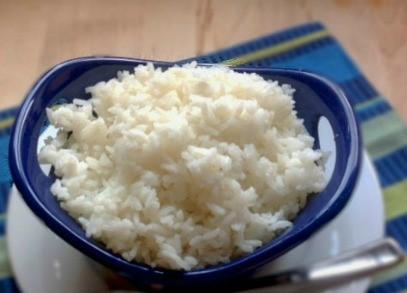WhiteRice: (38, 60, 329, 268)
